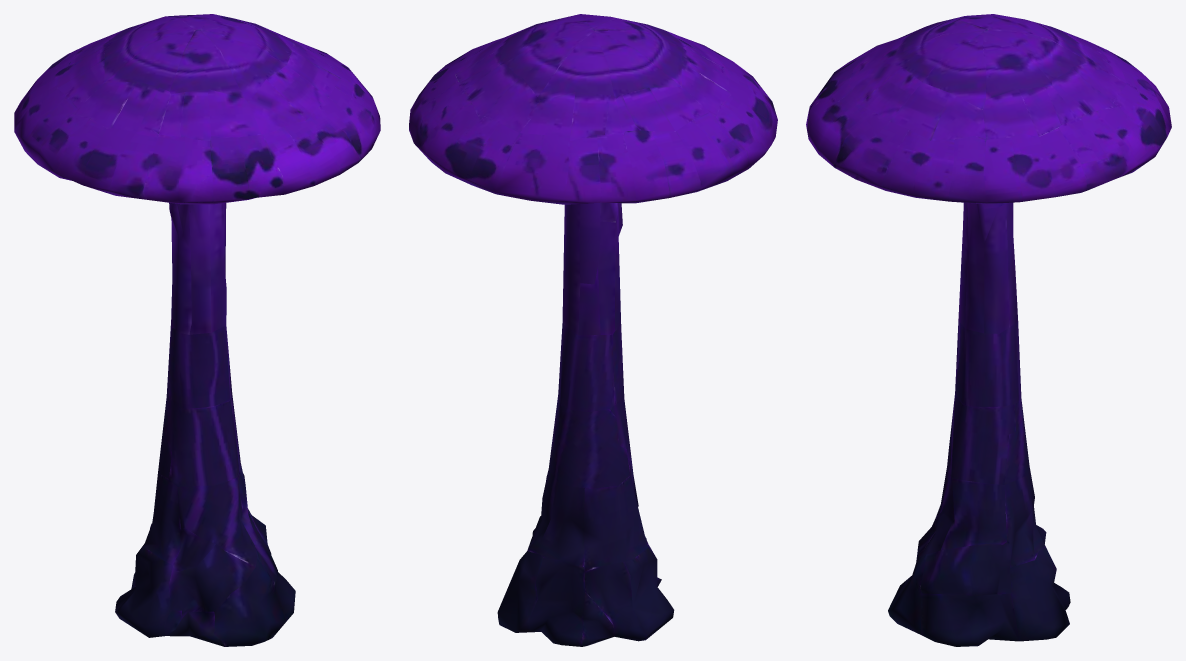
Rendered from purple-mushroom.glb.
The picture shows the model from 3 angles, left to right: view 1: azimuth 30°, elevation 25°; view 2: azimuth 150°, elevation 25°; view 3: azimuth 270°, elevation 25°; orthographic projection.
Bounding box in the file's own units: 1.08 × 1.9 × 1.09.
1 material, 1 textured.
